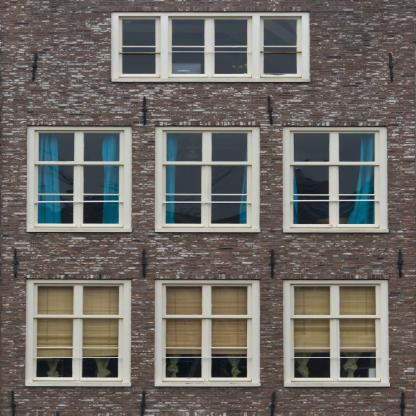Building Outline: (0, 0, 416, 416)
Cornice: (110, 7, 309, 12), (155, 121, 260, 126), (282, 121, 387, 126), (28, 275, 133, 279), (155, 275, 260, 279), (283, 275, 388, 279), (27, 122, 132, 126)
Facade: (0, 0, 416, 416)
Floor: (1, 112, 415, 263), (1, 267, 415, 412), (1, 0, 415, 107)
Floor Slab: (1, 108, 415, 112), (1, 263, 415, 267), (1, 412, 415, 416)
Window: (290, 130, 381, 227), (35, 130, 126, 227), (163, 130, 254, 227), (290, 284, 381, 381), (33, 284, 124, 381), (162, 284, 253, 381), (169, 16, 252, 76), (260, 16, 302, 76), (119, 16, 160, 76)
